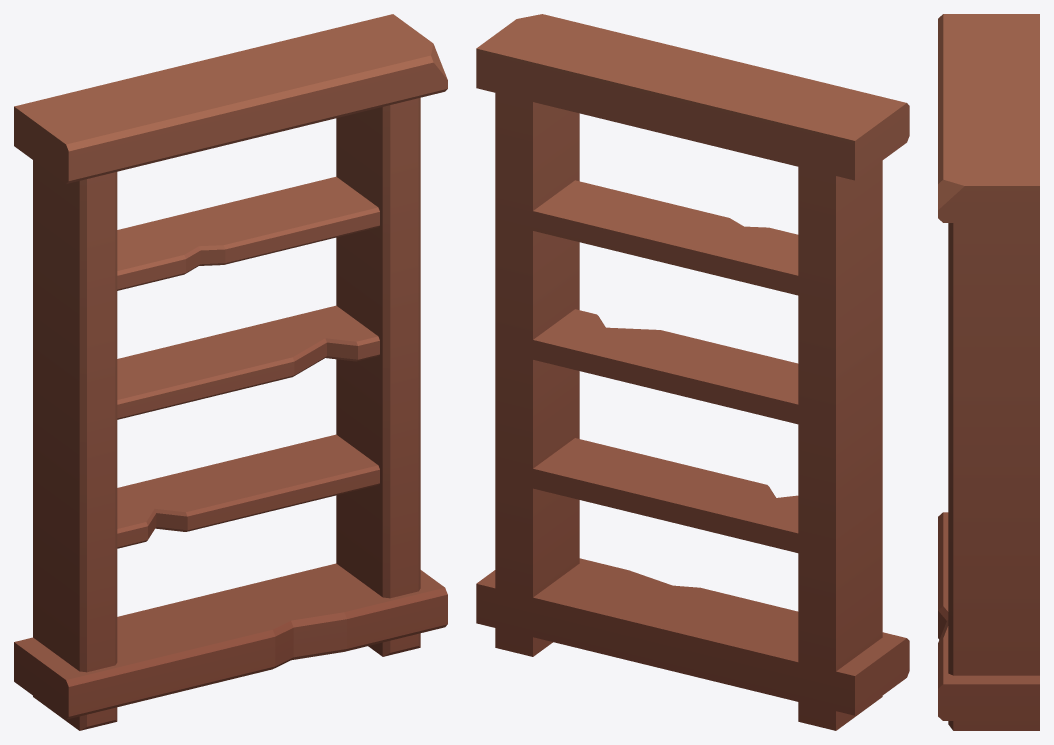
The model's file is bookcase_single.glb.
The picture shows the model from 3 angles, left to right: view 1: azimuth 30°, elevation 25°; view 2: azimuth 150°, elevation 25°; view 3: azimuth 270°, elevation 25°; orthographic projection. The views are drawn at different scales.
Visible parts, largest first — view 1: bookcase_single; view 2: bookcase_single; view 3: bookcase_single.
Part boxes in pixels (<box>): bookcase_single: <box>14,14,447,730</box>; bookcase_single: <box>476,14,909,730</box>; bookcase_single: <box>938,14,1039,730</box>.
Bounding box in the file's own units: 2 × 3 × 0.5.
Materials: 1 (1 with a texture image).
